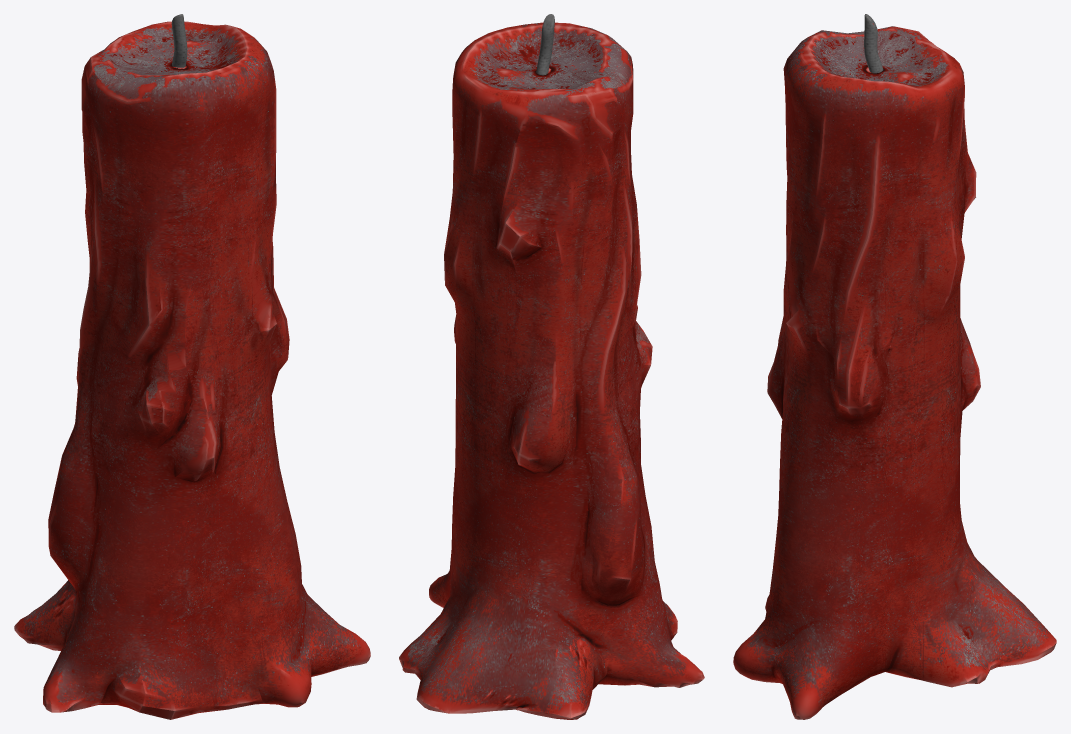
Rendered from candle.fbx.
3 views of the same model, side by side, from view 1: azimuth 30°, elevation 25°; view 2: azimuth 150°, elevation 25°; view 3: azimuth 270°, elevation 25° (orthographic). The views are drawn at different scales.
Parts seen in each view (by area): view 1: _candle1; view 2: _candle1; view 3: _candle1.
Boxes of the visible parts, <box> form: _candle1: <box>14,14,370,719</box>; _candle1: <box>399,14,704,719</box>; _candle1: <box>733,14,1056,719</box>.
Bounding box in the file's own units: 1.52 × 3.19 × 1.47.
